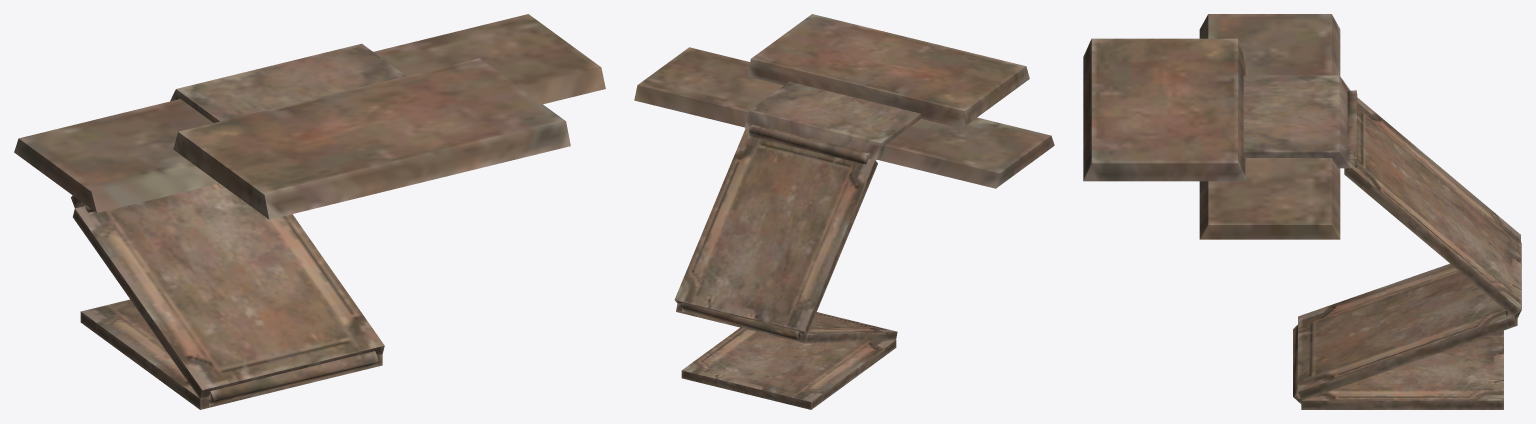
Rendered from frn_all_lamp_tbl_s1_l1.fbx.
3 renders of one model, left to right at view 1: azimuth 30°, elevation 25°; view 2: azimuth 150°, elevation 25°; view 3: azimuth 270°, elevation 25°, orthographic. The views are drawn at different scales.
Parts seen in each view (by area): view 1: mesh_node; view 2: mesh_node; view 3: mesh_node.
Boxes of the visible parts, bbox=[...] form: mesh_node: bbox=[14, 14, 605, 409]; mesh_node: bbox=[634, 14, 1054, 409]; mesh_node: bbox=[1083, 14, 1521, 409].
Bounding box in the file's own units: 0.7096 × 0.4258 × 0.6231.
